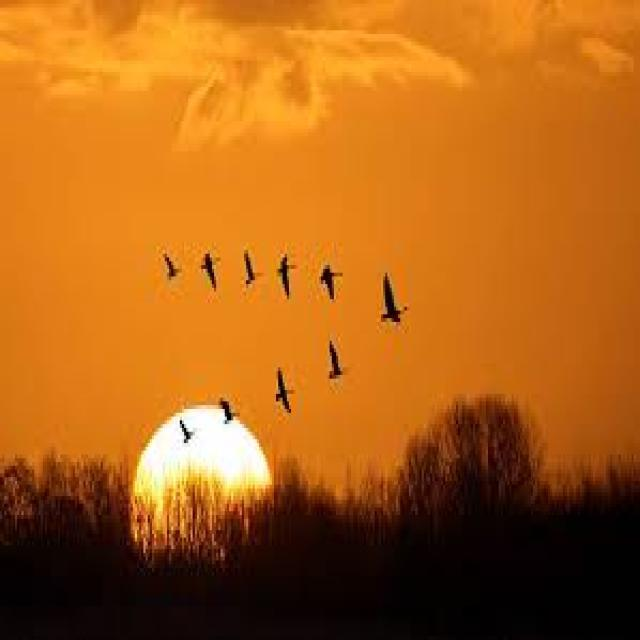bird: (374, 240, 414, 339), (193, 223, 230, 307), (229, 231, 268, 307), (155, 214, 185, 305), (316, 330, 356, 398), (266, 352, 306, 420), (275, 232, 305, 316), (212, 383, 252, 443), (316, 240, 348, 308), (177, 405, 202, 477)
